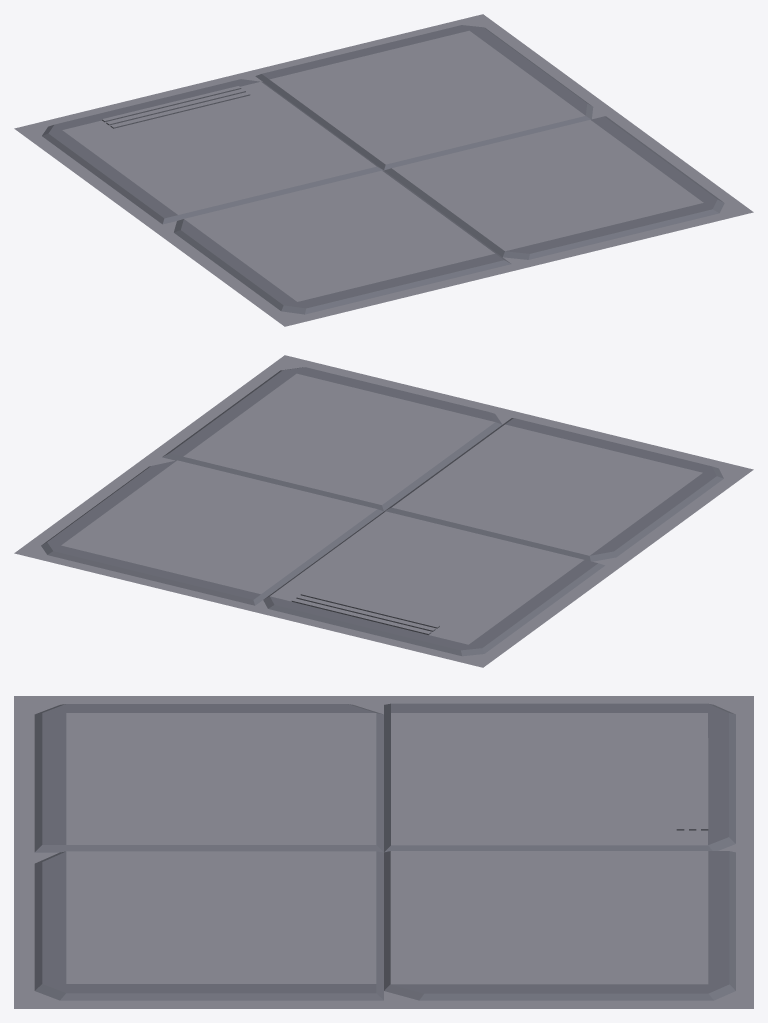
The model's file is FloorSciFiPanel_02.glb.
The picture shows the model from 3 angles, top to bottom: view 1: azimuth 30°, elevation 25°; view 2: azimuth 150°, elevation 25°; view 3: azimuth 270°, elevation 25°; orthographic projection. The views are drawn at different scales.
Parts seen in each view (by area): view 1: FloorSciFiPanel_02; view 2: FloorSciFiPanel_02; view 3: FloorSciFiPanel_02.
Part boxes in pixels (box(x1,y1,x2,y2)): FloorSciFiPanel_02: box(14, 14, 753, 326); FloorSciFiPanel_02: box(14, 355, 753, 667); FloorSciFiPanel_02: box(14, 696, 753, 1008).
Size of what is drawn, in the model's own units: 2 by 0.04 by 2.
Materials: 1 (1 with a texture image).
